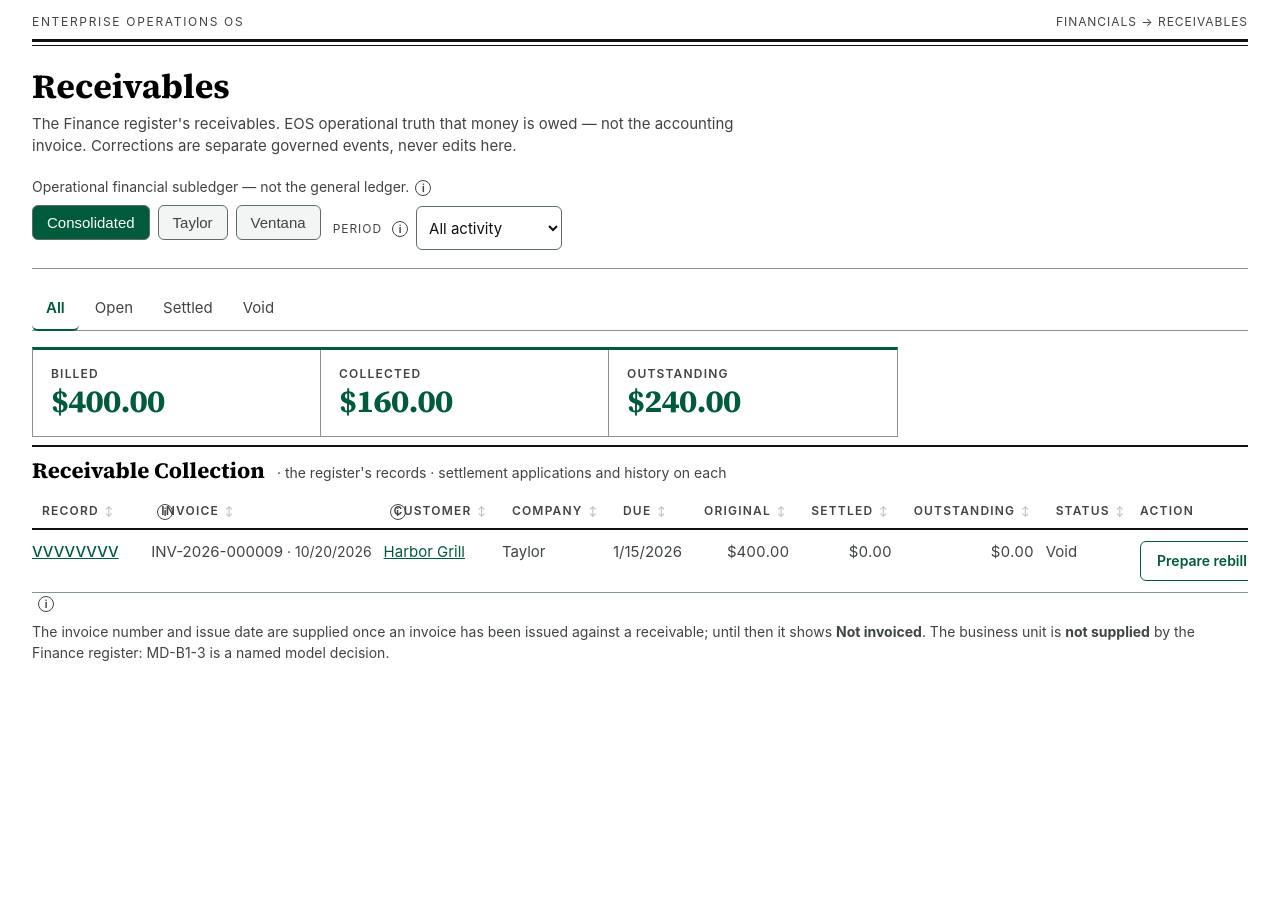
Test case: Receivables — Prepare rebill (FU-2) › preparing sends the Sales Order and ONE key, then re-reads; nothing is optimistic
expect the button "Prepare rebill" is shown: met, box [1140,541,1248,581]
Click the button "Prepare rebill" at (1202, 561), box [1140,541,1264,581]
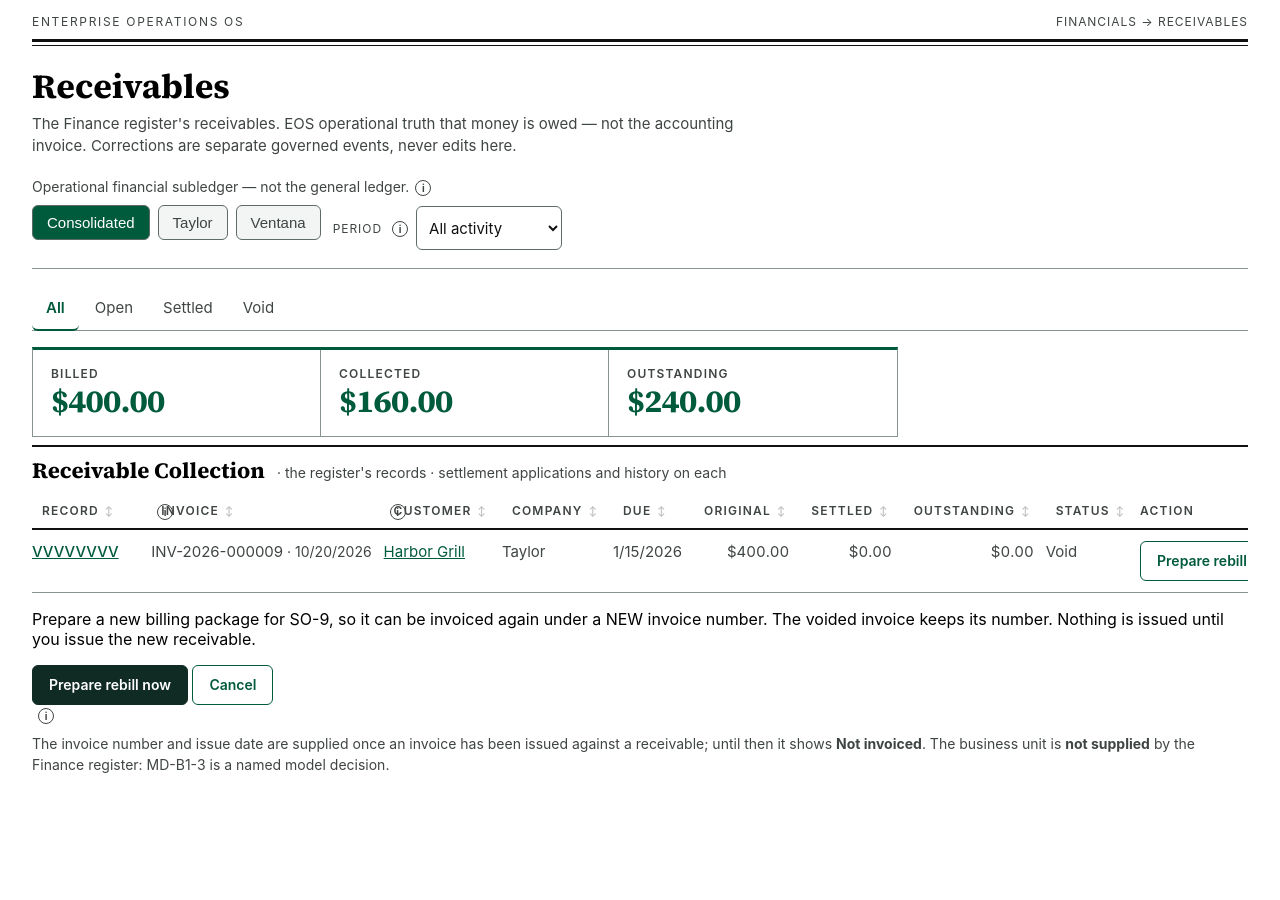
Click the button "Prepare rebill now" at (110, 685), box [32,665,188,705]
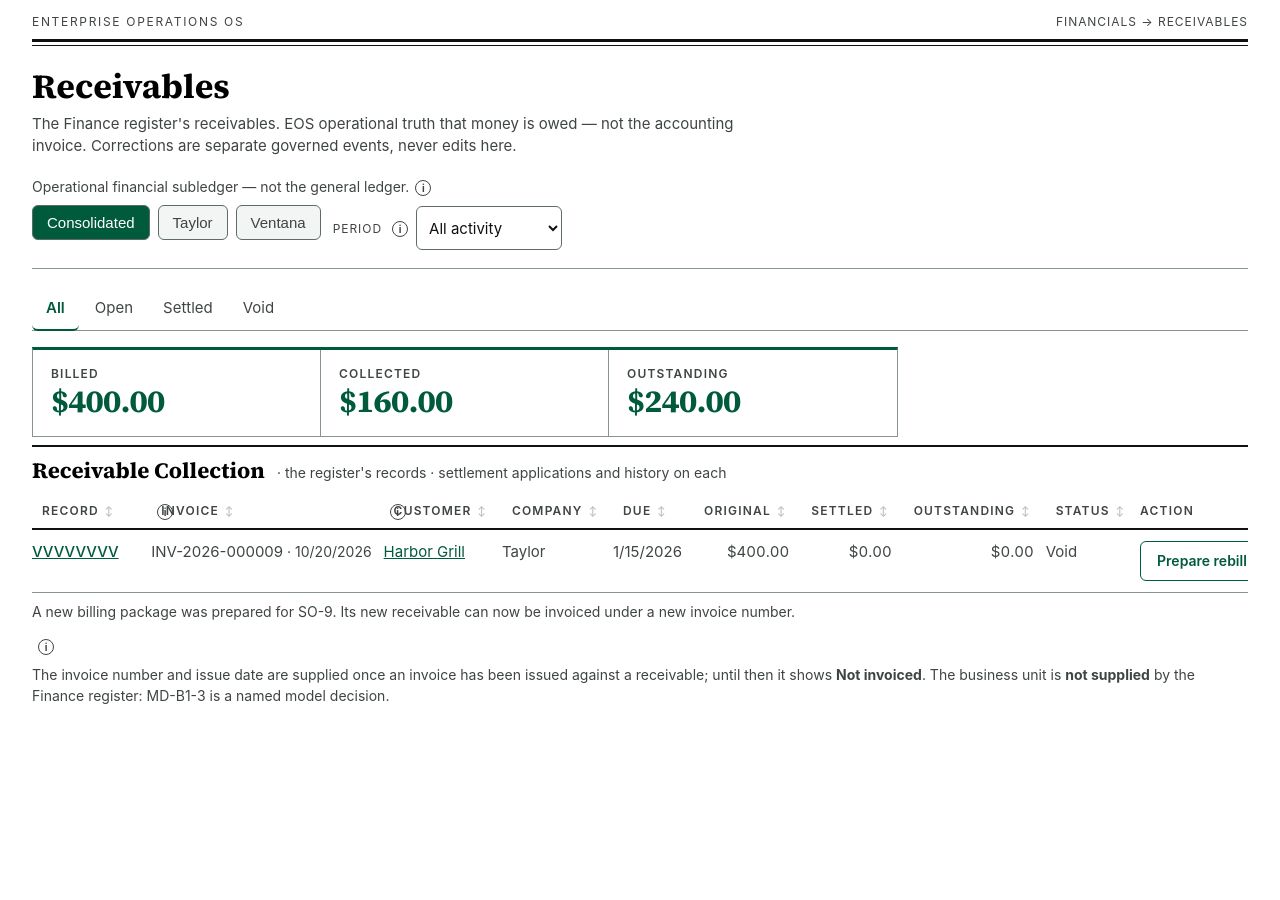
expect the text "A new billing package was prepared for SO-9" is shown: met, box [32,603,795,620]
